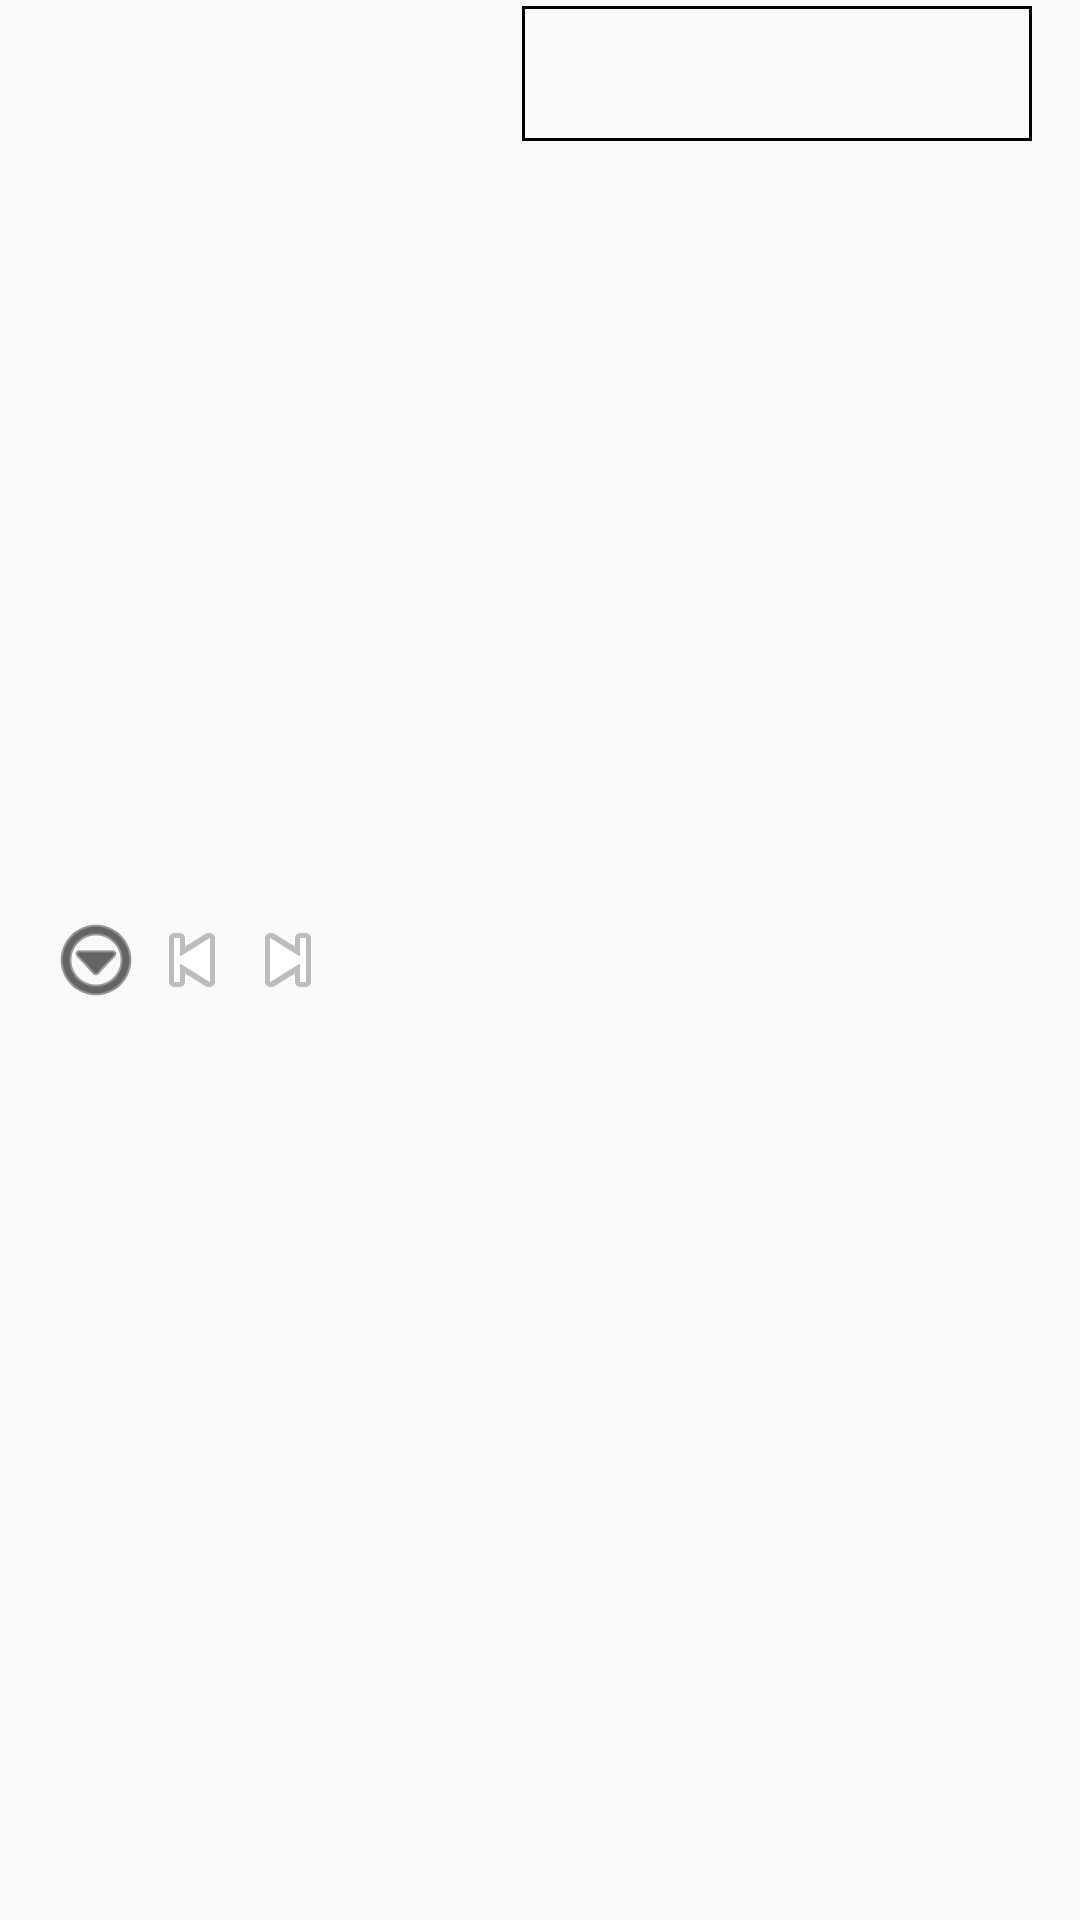

Where to tap for icons on this 1080×1920 app screen, as point (x, y):
more: point (96, 960)
next: point (288, 960)
previous: point (192, 960)
